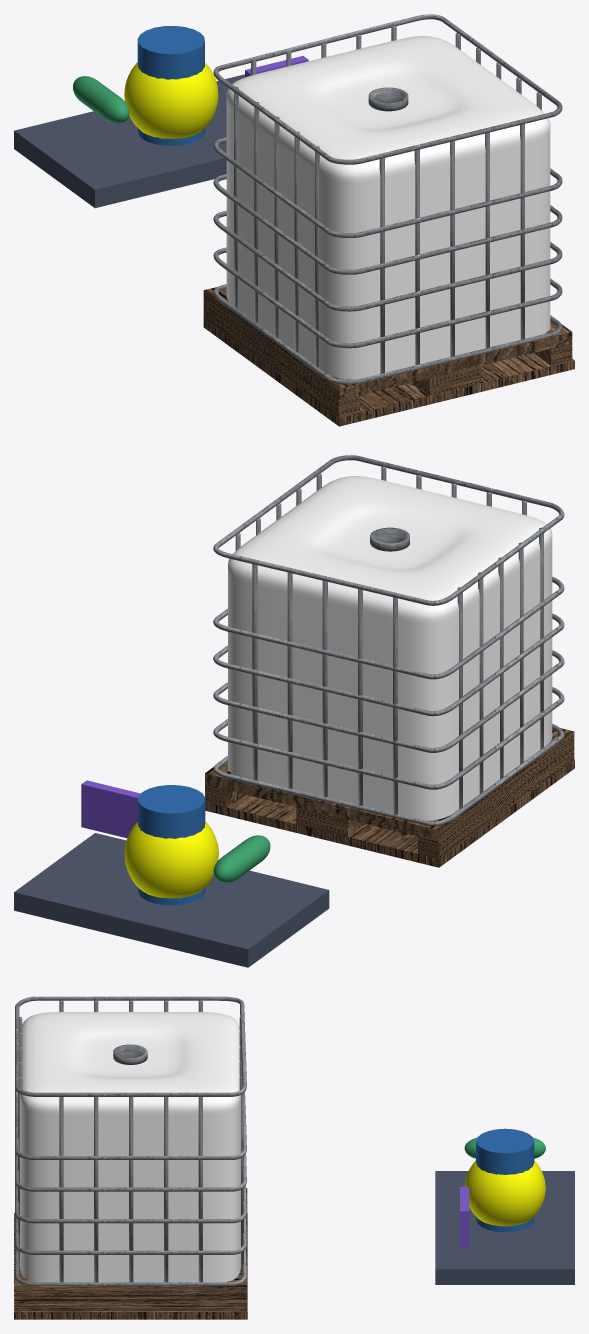
Rendered from machine.glb.
3 views of the same model, one above another, from view 1: azimuth 30°, elevation 25°; view 2: azimuth 150°, elevation 25°; view 3: azimuth 270°, elevation 25° (orthographic). The views are drawn at different scales.
Visible parts, largest first — view 1: Cube.030, BasePlate, Cube.029, Cube.046, Hotspot_Pump, BezierCurve.015, PumpBody, BezierCurve.012, BezierCurve.011, BezierCurve.013, BezierCurve.010, BezierCurve.009 (+12 smaller); view 2: Cube.030, BasePlate, Cube.029, Cube.046, Hotspot_Pump, BezierCurve.015, PumpBody, ControlPanel, BezierCurve.010, BezierCurve.011, BezierCurve.013, BezierCurve.012 (+13 smaller); view 3: Cube.030, BasePlate, Cube.029, Hotspot_Pump, BezierCurve.015, PumpBody, Cube.046, BezierCurve.010, BezierCurve.012, BezierCurve.011, BezierCurve.013, BezierCurve.009 (+8 smaller).
Boxes of the visible parts, x1,y1,x2,y2 form: Cube.030: (226,36,550,379); BasePlate: (14,74,244,208); Cube.029: (203,287,572,417); Cube.046: (203,319,574,426); Hotspot_Pump: (124,62,218,138); BezierCurve.015: (213,14,562,164); PumpBody: (137,26,204,145); BezierCurve.012: (213,174,562,274); BezierCurve.011: (213,210,562,311); BezierCurve.013: (213,137,562,237); BezierCurve.010: (213,247,562,348); BezierCurve.009: (213,284,562,384); Cube.030: (228,476,552,820); BasePlate: (14,833,329,967); Cube.029: (205,728,574,858); Cube.046: (205,759,574,867); Hotspot_Pump: (124,821,218,898); BezierCurve.015: (213,455,564,605); PumpBody: (138,785,205,905); ControlPanel: (81,780,140,838); BezierCurve.010: (213,687,564,789); BezierCurve.011: (213,650,564,752); BezierCurve.013: (213,576,564,679); BezierCurve.012: (213,613,564,716); Cube.030: (20,1012,240,1282); BasePlate: (435,1171,574,1284); Cube.029: (15,1188,247,1311); Hotspot_Pump: (464,1161,545,1226); BezierCurve.015: (15,996,246,1096); PumpBody: (476,1128,534,1232); Cube.046: (14,1213,247,1319); BezierCurve.010: (15,1216,246,1254); BezierCurve.012: (15,1152,246,1191); BezierCurve.011: (15,1184,246,1223); BezierCurve.013: (15,1089,246,1159); BezierCurve.009: (15,1247,246,1285).
Bounding box in the file's own units: 2.02 × 2.13 × 4.82.
8 materials, 2 textured.
